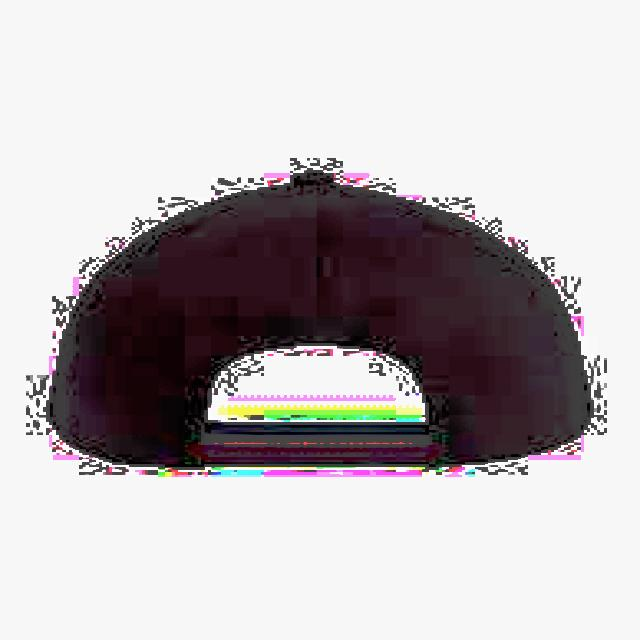TOPI: (43, 166, 590, 472)
